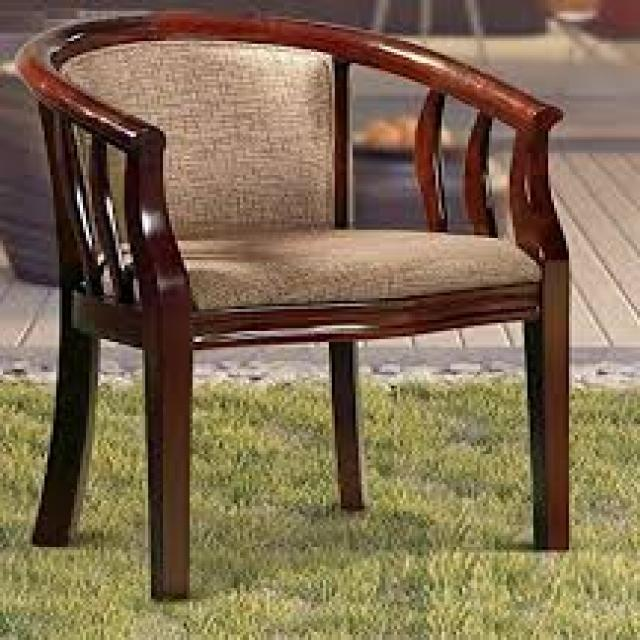chair: (12, 11, 576, 605)
